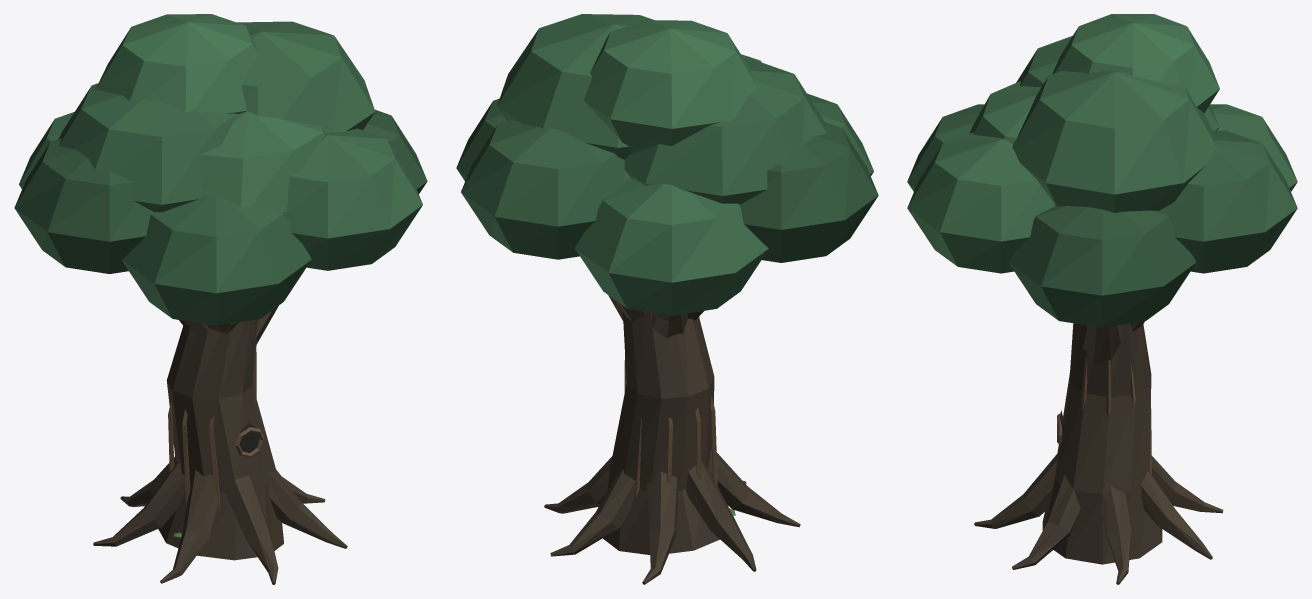
File: hardwood_tree_a.glb
3 views of the same model, side by side, from view 1: azimuth 30°, elevation 25°; view 2: azimuth 150°, elevation 25°; view 3: azimuth 270°, elevation 25° (orthographic). The views are drawn at different scales.
Parts seen in each view (by area): view 1: geometry; view 2: geometry; view 3: geometry.
Part boxes in pixels (x1,y1,x2,y2): geometry: (14, 14, 427, 584); geometry: (456, 14, 878, 584); geometry: (907, 14, 1297, 584).
Bounding box in the file's own units: 4.32 × 5.5 × 3.84.
